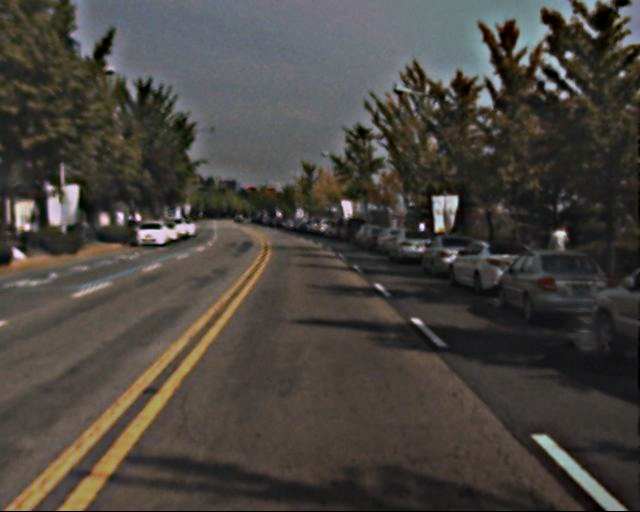person: (545, 223, 568, 278), (519, 222, 541, 276)
